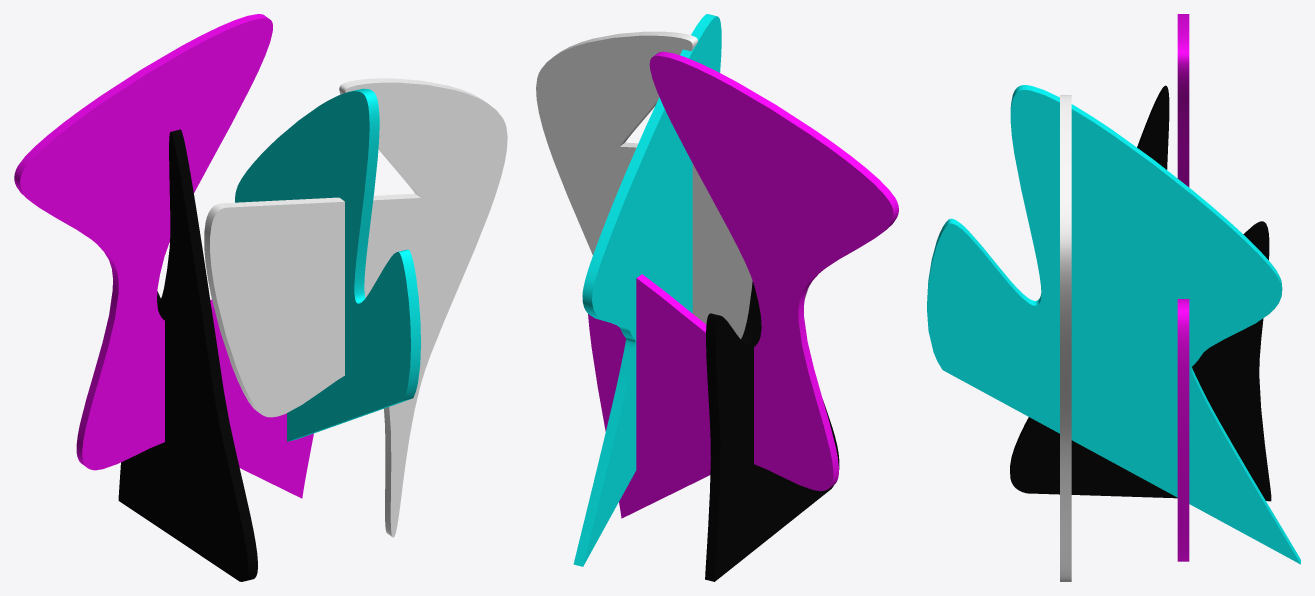
File: blenderalphatest.glb
The picture shows the model from 3 angles, left to right: view 1: azimuth 30°, elevation 25°; view 2: azimuth 150°, elevation 25°; view 3: azimuth 270°, elevation 25°; orthographic projection. The views are drawn at different scales.
Visible parts, largest first — view 1: Body25, Body16, Body17, Body24; view 2: Body16, Body25, Body24, Body17; view 3: Body24, Body17, Body25, Body16.
Boxes of the visible parts, box(x1,y1,x2,y2) form: Body25: box(204, 78, 507, 537); Body16: box(14, 14, 313, 498); Body17: box(118, 129, 257, 581); Body24: box(235, 88, 420, 441); Body16: box(588, 51, 898, 518); Body25: box(536, 31, 808, 339); Body24: box(573, 14, 721, 566); Body17: box(705, 281, 839, 581); Body24: box(927, 85, 1300, 564); Body17: box(1010, 85, 1271, 501); Body25: box(1060, 95, 1071, 581); Body16: box(1177, 14, 1189, 561).
Size of the model in its own units: 0.8566 by 0.9466 by 0.6405.
